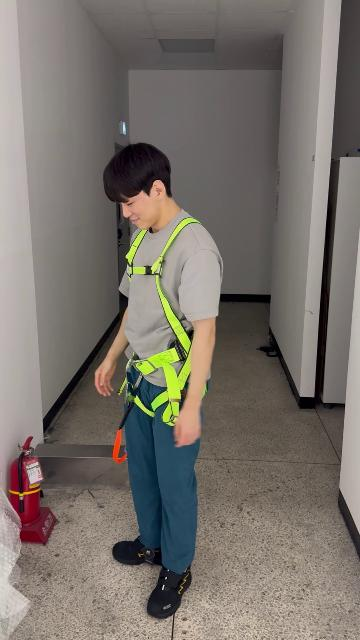helmet_not_worn: (103, 143, 173, 204)
shoe_worn: (143, 563, 197, 620), (113, 537, 164, 566)
vest_worn: (121, 220, 210, 421)
